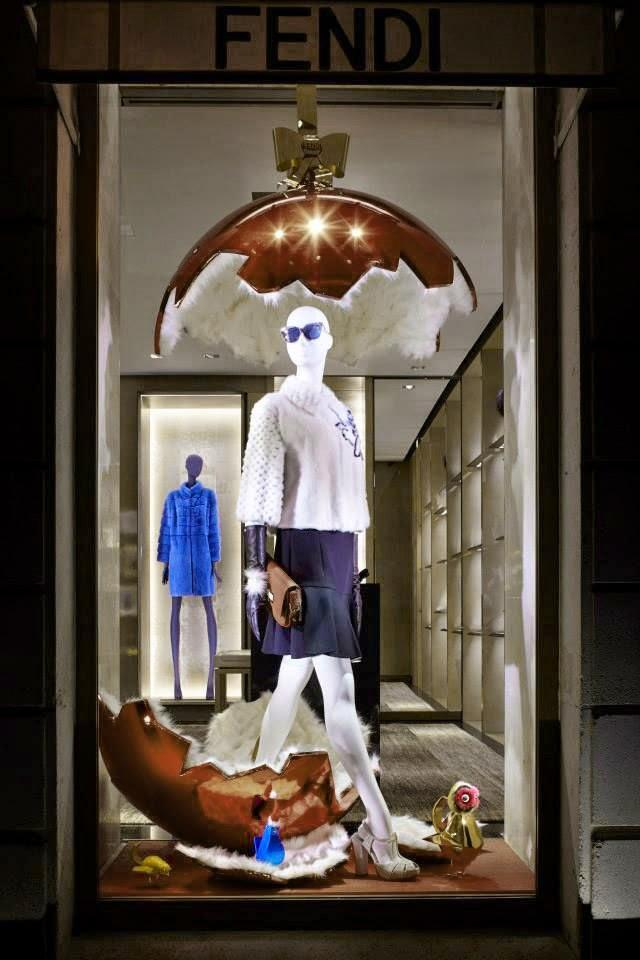person-like: (225, 292, 431, 888), (152, 443, 233, 708)
